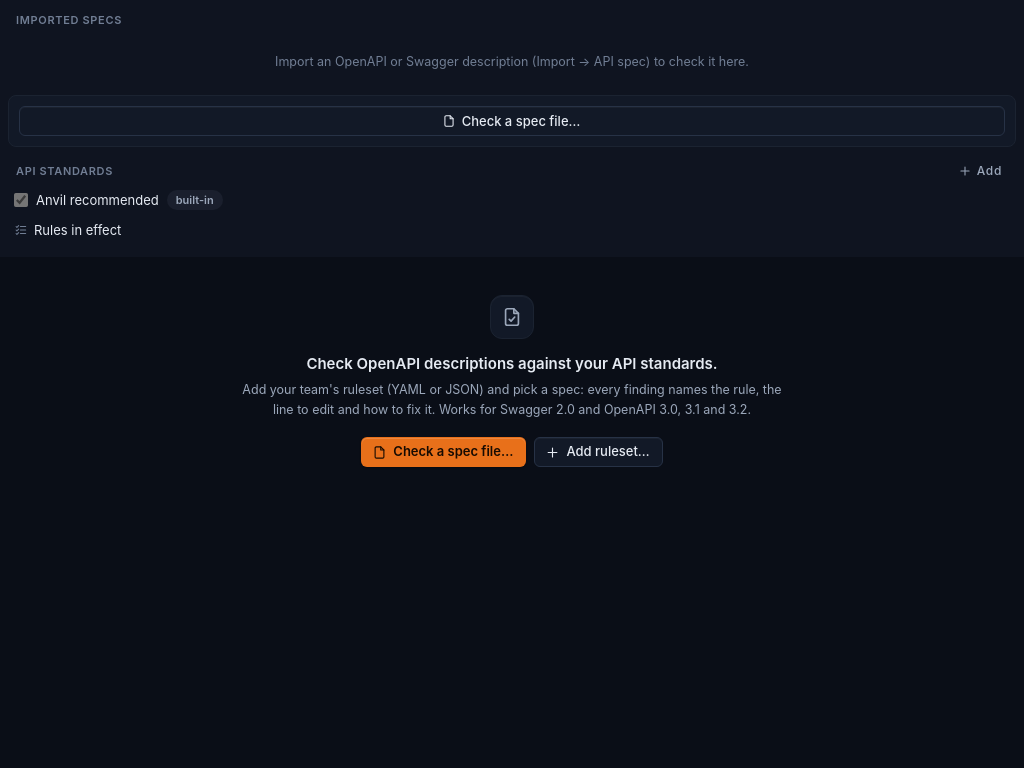
a spec file is linted through its grant
The image size is (1024, 768).
Click the button "Check a spec file…" below "Imported specs" at point(512, 121), box [19,106,1005,136]
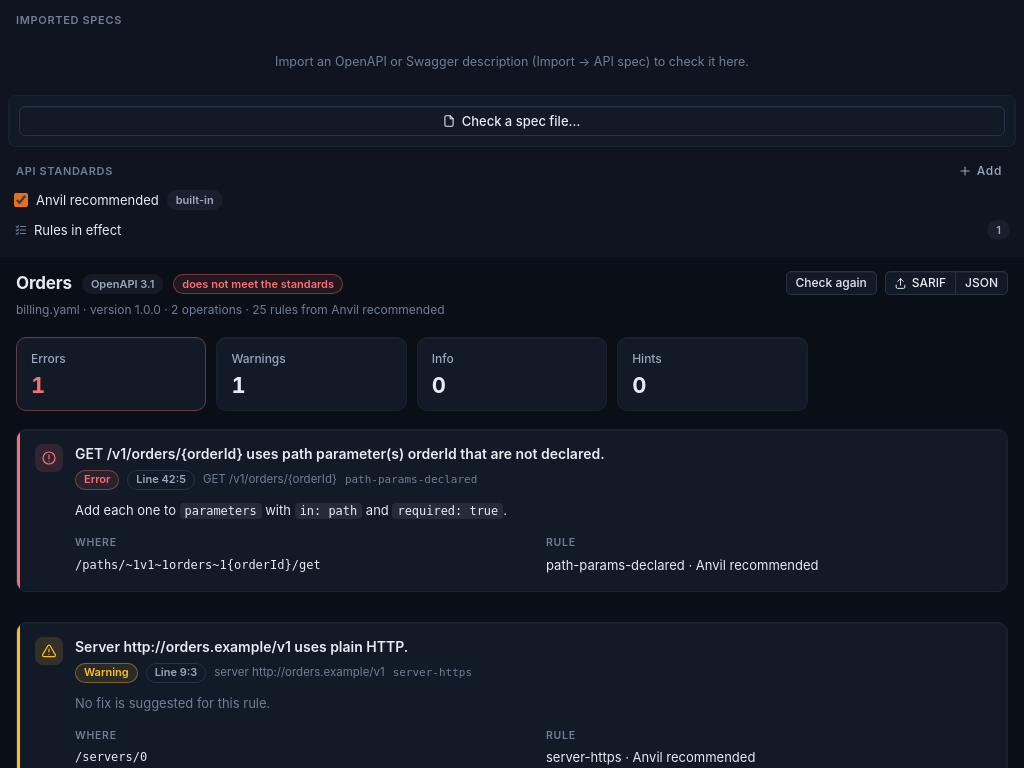
Now the text "uses path parameter" is shown, box [75,445,605,462]
